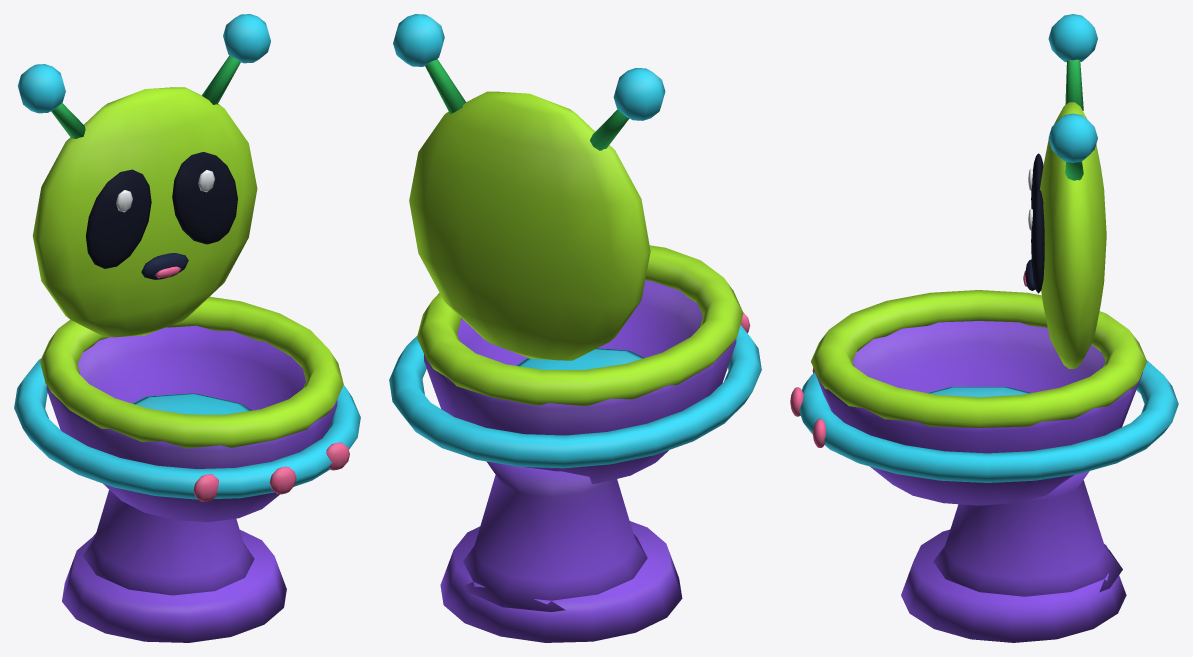
File: AlienToilet.fbx
3 renders of one model, left to right at view 1: azimuth 30°, elevation 25°; view 2: azimuth 150°, elevation 25°; view 3: azimuth 270°, elevation 25°, orthographic. The views are drawn at different scales.
Parts seen in each view (by area): view 1: AlienToilet; view 2: AlienToilet; view 3: AlienToilet.
Boxes of the visible parts, box(x1,y1,x2,y2) form: AlienToilet: box(14, 14, 360, 642); AlienToilet: box(389, 14, 761, 642); AlienToilet: box(790, 14, 1178, 642).
Bounding box in the file's own units: 1.71 × 3 × 2.
1 material, 1 textured.
